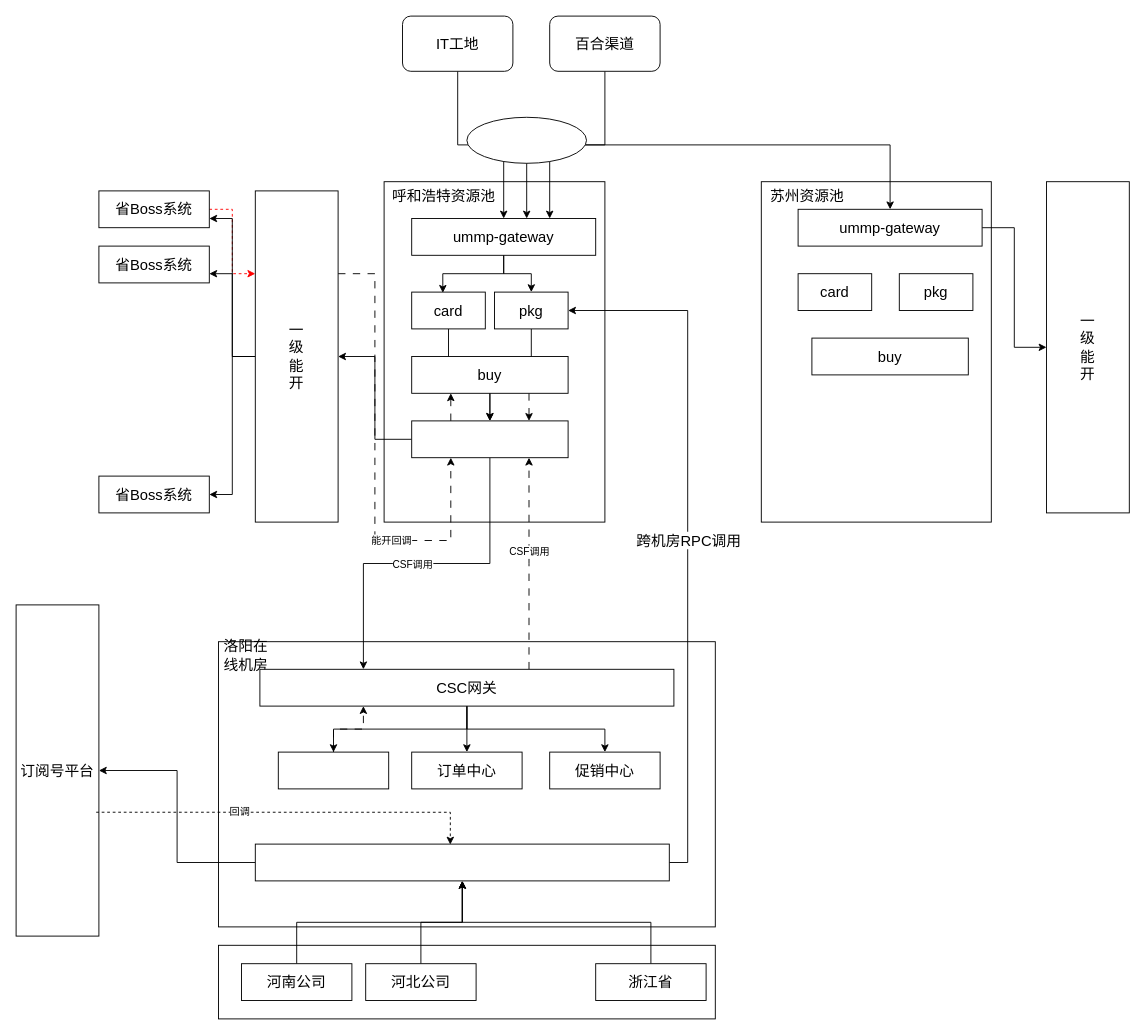
Image size: 1145x1035. Some labels were removed from this diagram. The shapes that lost their labels are listed below. From the top down, each one's box as (x1, y1, x2, y2) in pixels, then its label:
(466, 116, 586, 163): apisix
(411, 420, 568, 458): umm-gateway
(277, 751, 389, 789): 轻渠道
(254, 843, 669, 881): 5G消息网关
